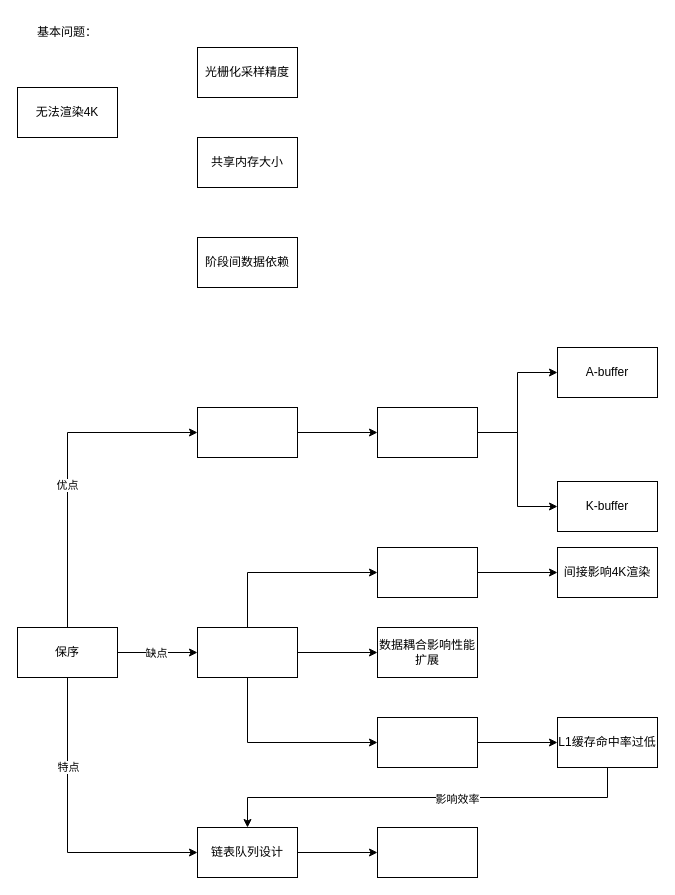
Image size: 675x895. Some labels were removed from this diagram. Each missing label, with the box of its shape:
其他multifragment方案: (376, 406, 478, 458)
其他的问题: (376, 716, 478, 768)
影响性能: (196, 626, 298, 678)
排序缓存占用共享内存: (376, 546, 478, 598)
简化multifragment处理: (196, 406, 298, 458)
简化task分配: (376, 826, 478, 878)
